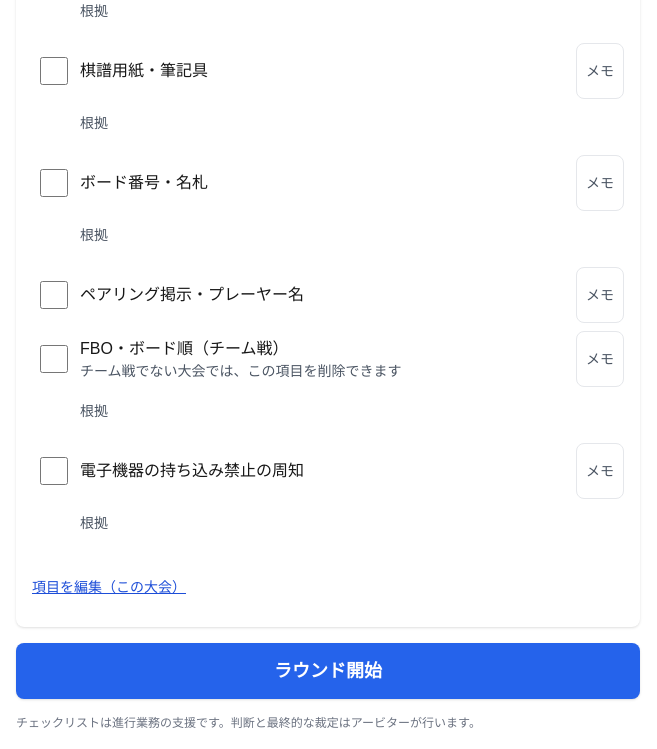
Round Checklist page › switching stage while editing adds the item to the visible stage
(page scrolled)
Click the button "項目を編集（この大会）".
click(109, 587)  # box [32,563,186,611]
(page scrolled)
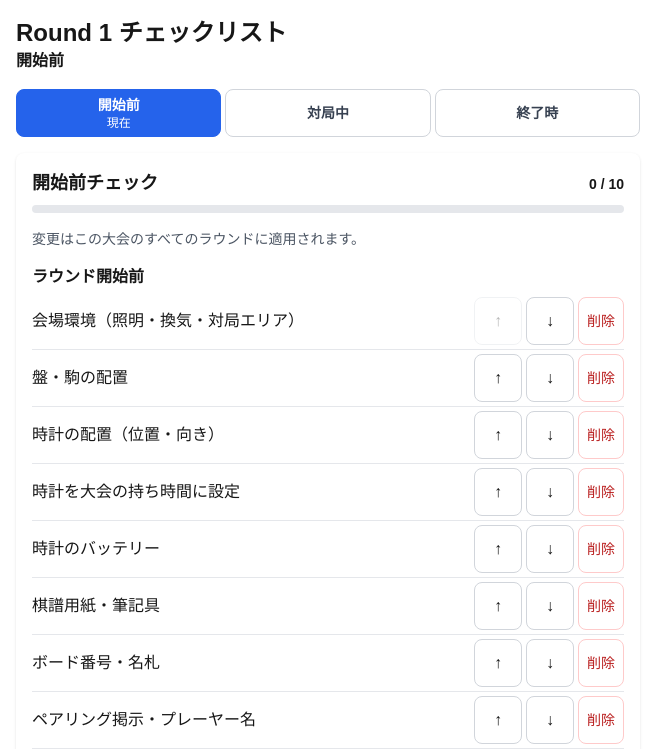
Click the button "終了時".
click(537, 113)  # box [435,89,640,137]
(page scrolled)
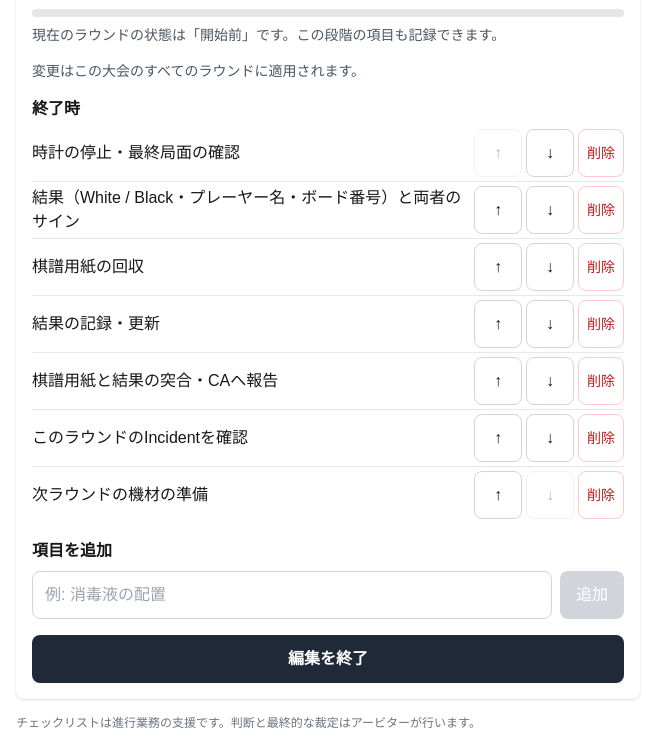
Type "結果掲示" into the field named "追加する項目名".
click(292, 595); type("結果掲示")  # box [32,571,552,619]
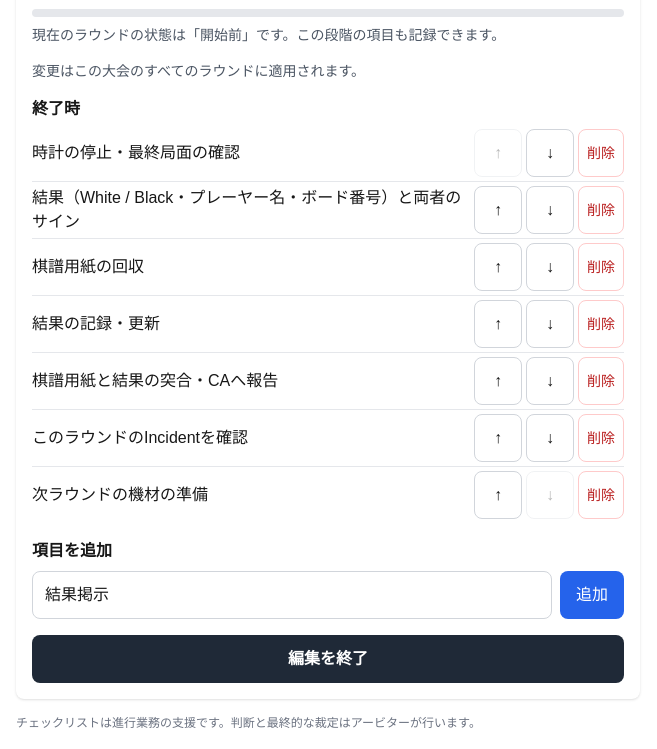
Click the button "追加".
click(592, 595)  # box [560,571,624,619]
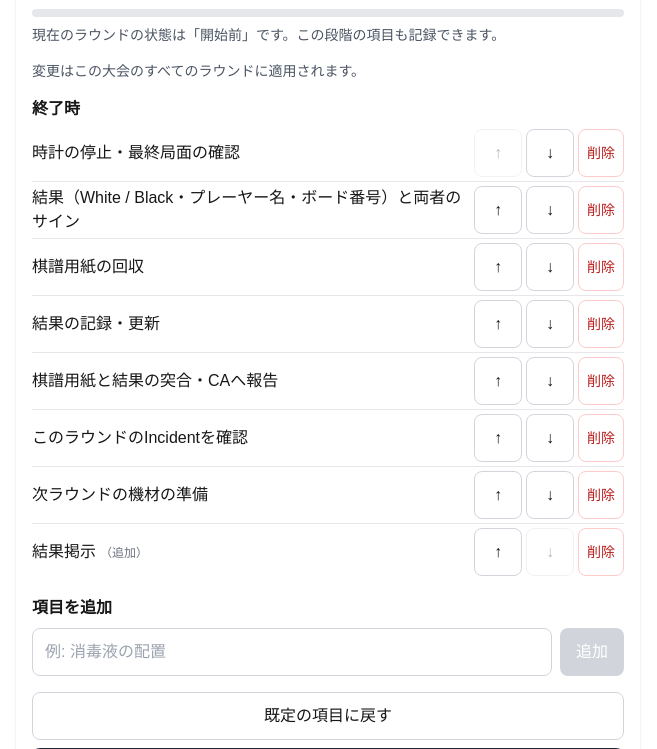
Result: the text "結果掲示" is shown at [32,543,96,560]
